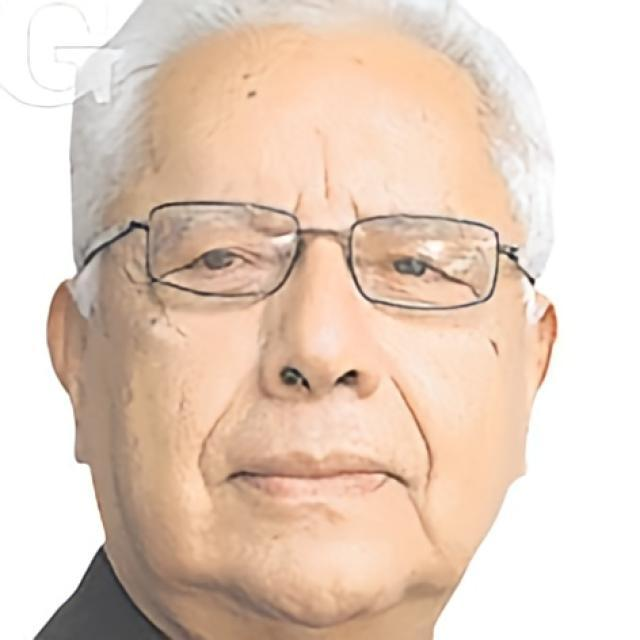anger: (102, 72, 529, 622)
